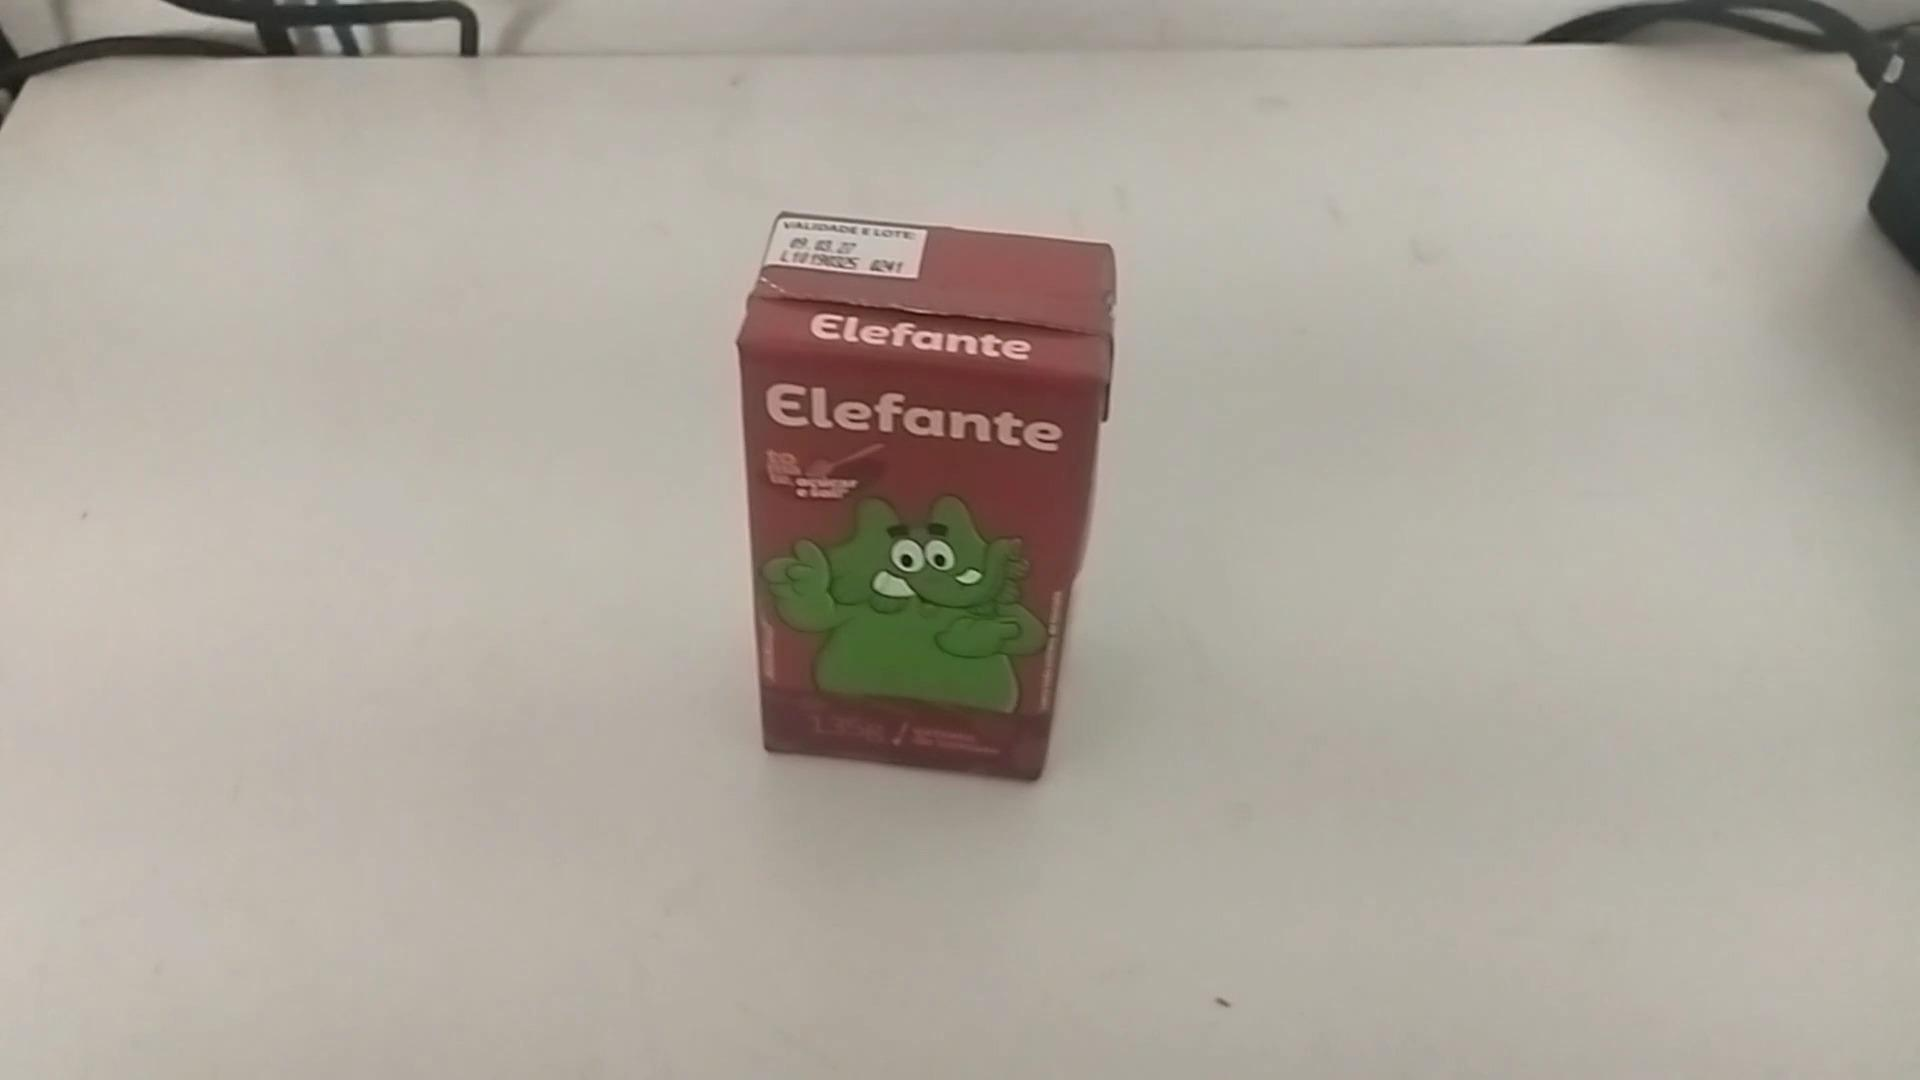tomate: (736, 214, 1121, 786)
